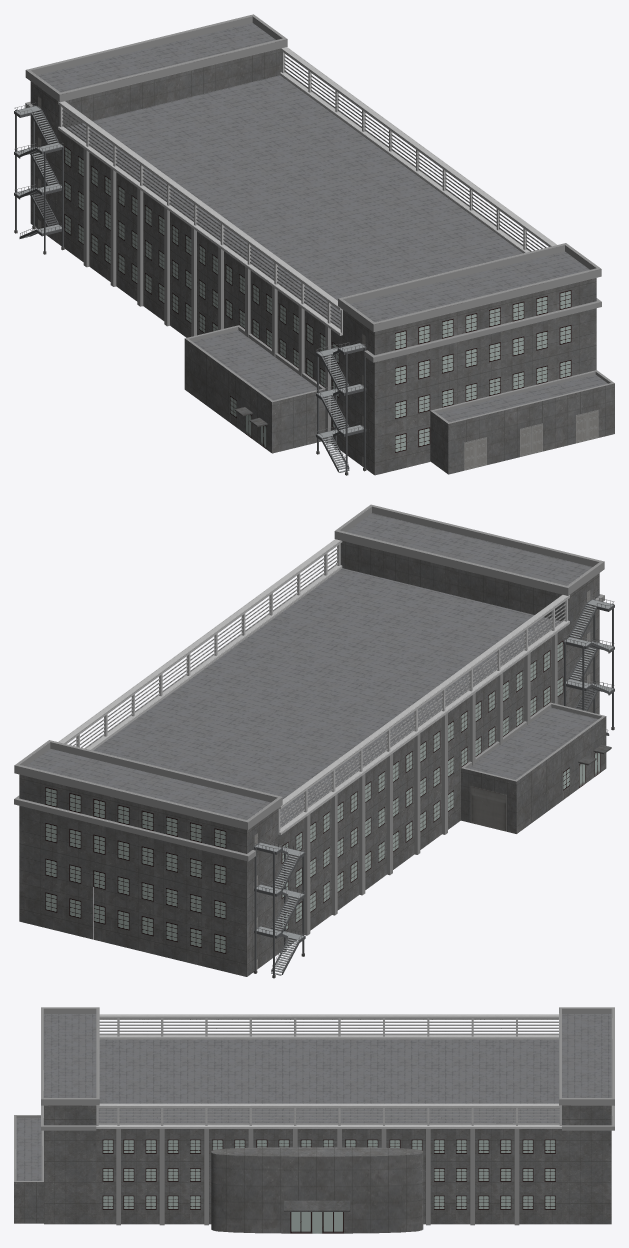
Rendered from hengtong_business_park_architectural_series_02.glb.
3 renders of one model, top to bottom at view 1: azimuth 30°, elevation 25°; view 2: azimuth 150°, elevation 25°; view 3: azimuth 270°, elevation 25°, orthographic. The views are drawn at different scales.
Bounding box in the file's own units: 35.18 × 15.52 × 66.39.
Materials: 2 (2 with a texture image).
